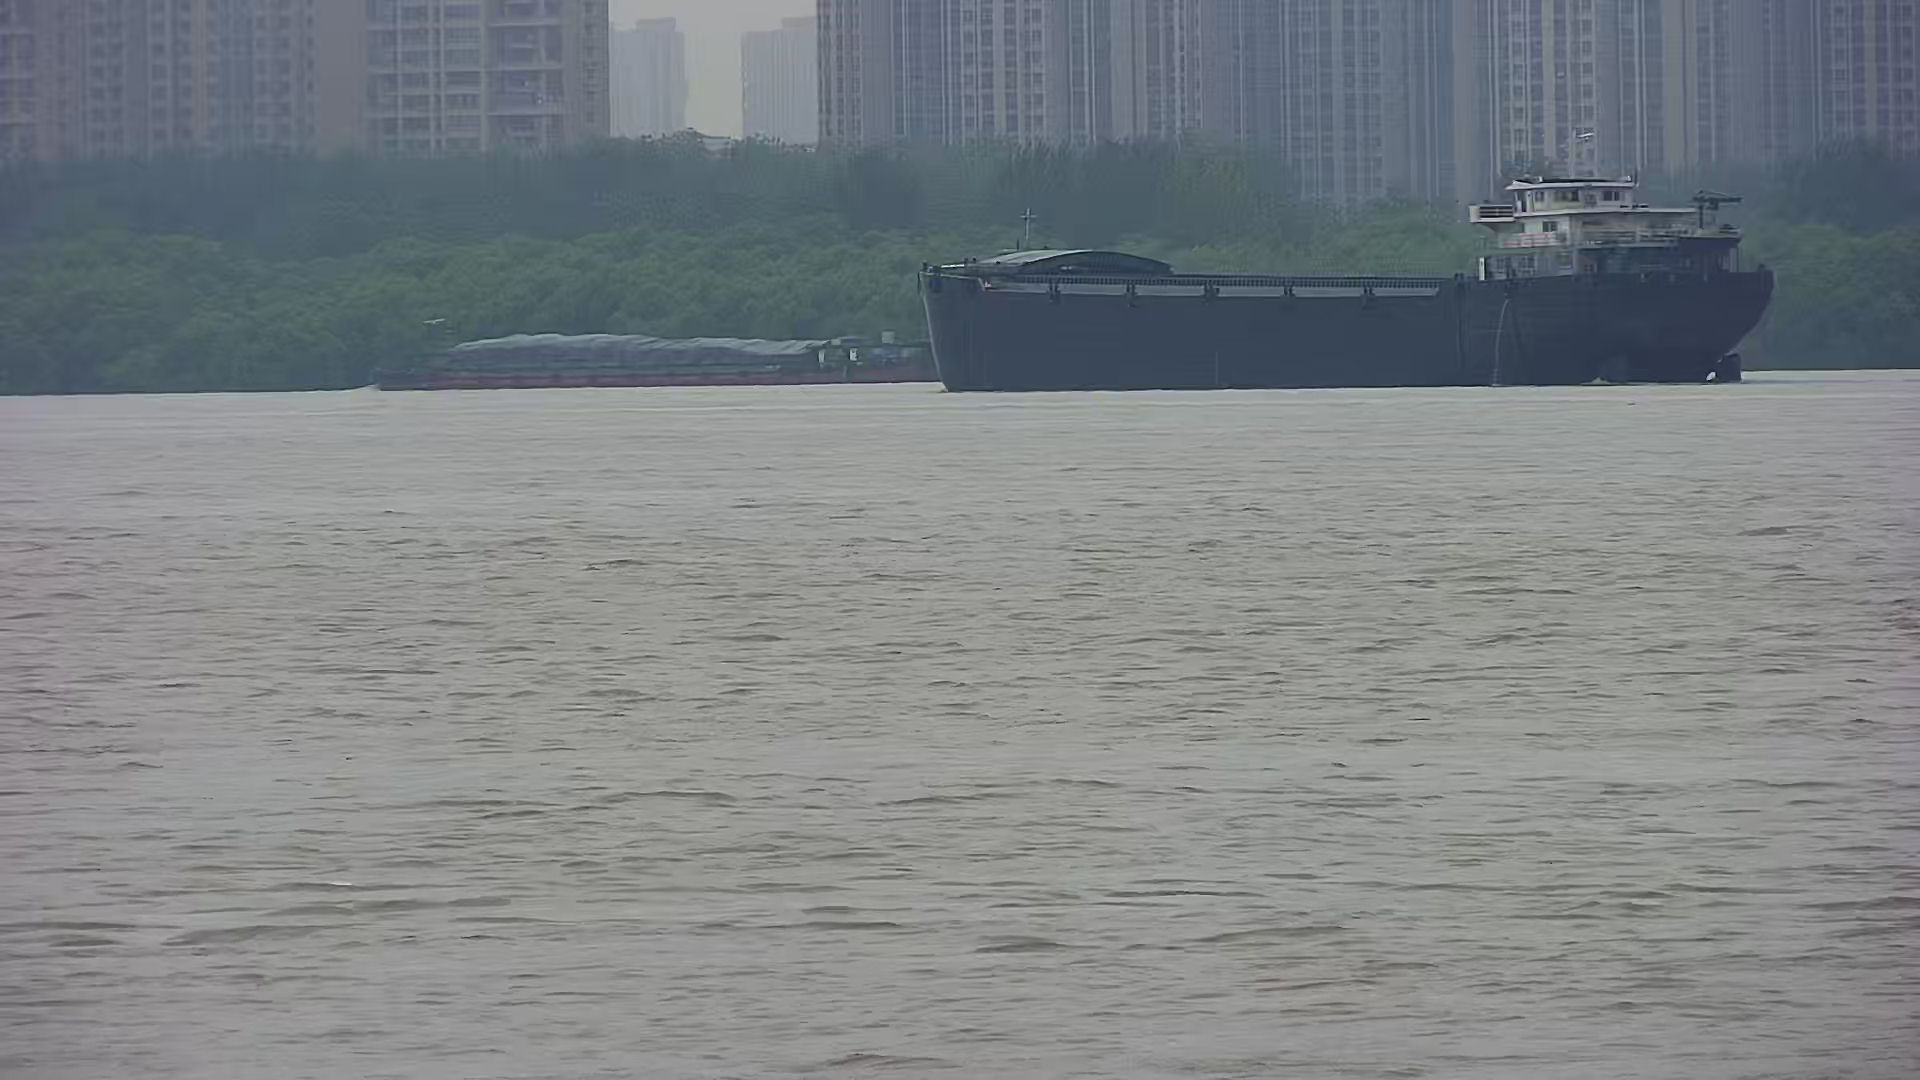ship: (920, 175, 1778, 386), (368, 309, 936, 388)
